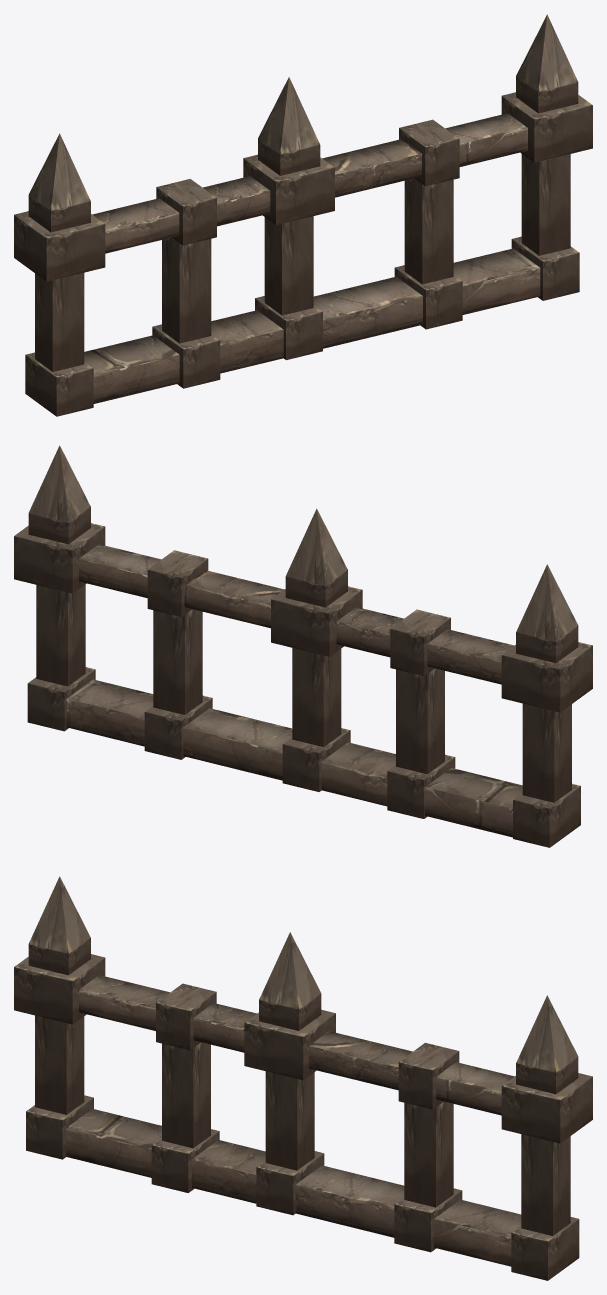
The model's file is new_p_fence_2.FBX.
3 views of the same model, one above another, from view 1: azimuth 30°, elevation 25°; view 2: azimuth 150°, elevation 25°; view 3: azimuth 330°, elevation 25° (orthographic).
Visible parts, largest first — view 1: new_p_fence_2; view 2: new_p_fence_2; view 3: new_p_fence_2.
Part boxes in pixels (x1=…): new_p_fence_2: x1=14, y1=14, x2=592, y2=416; new_p_fence_2: x1=14, y1=445, x2=592, y2=847; new_p_fence_2: x1=14, y1=876, x2=592, y2=1280.
Bounding box in the file's own units: 2.86 × 1.35 × 0.301.
